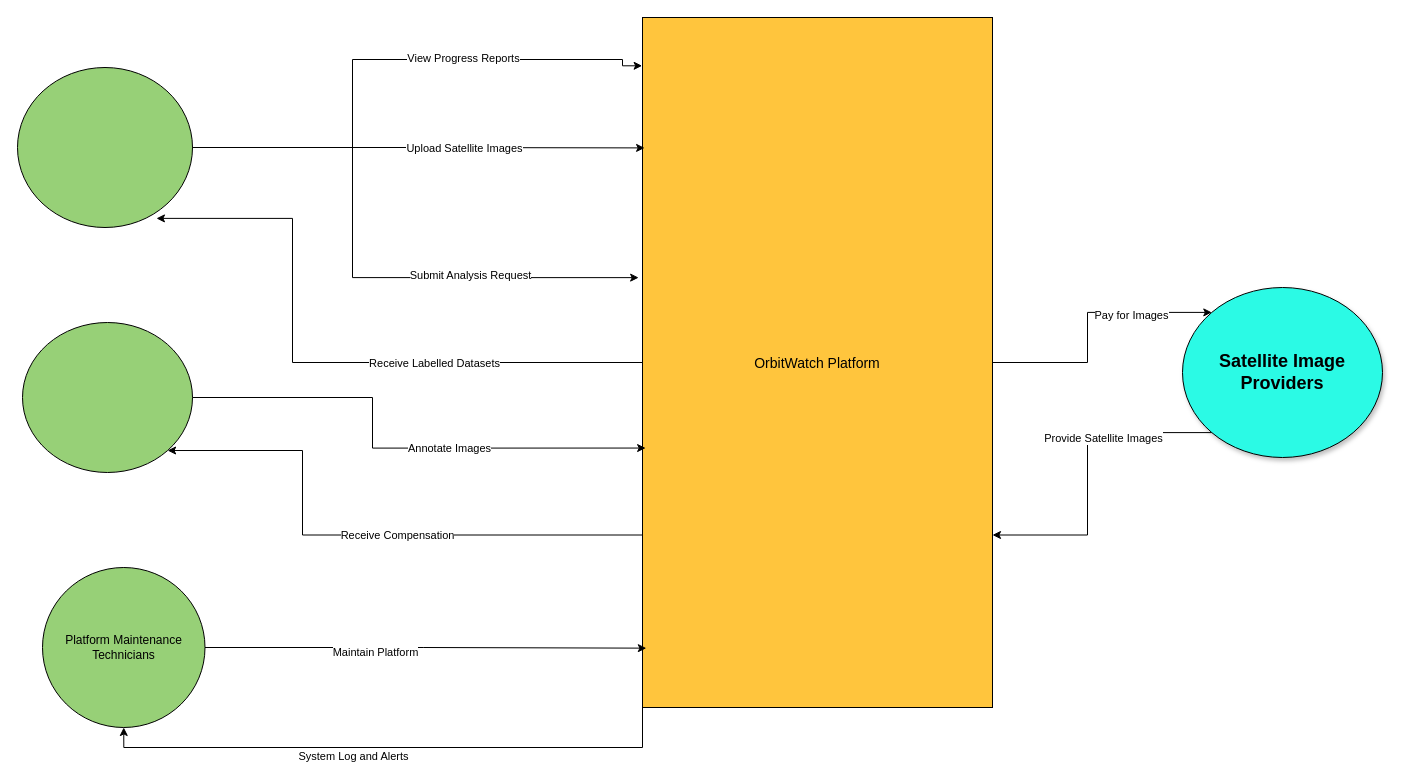
Image size: 1406x780. Some labels were removed from this diagram. Each missing label, with the centre of its shape:
"Customers (e.g., NGOs, Companies)" goes at (104,147).
"Data Labelers" goes at (107,397).
